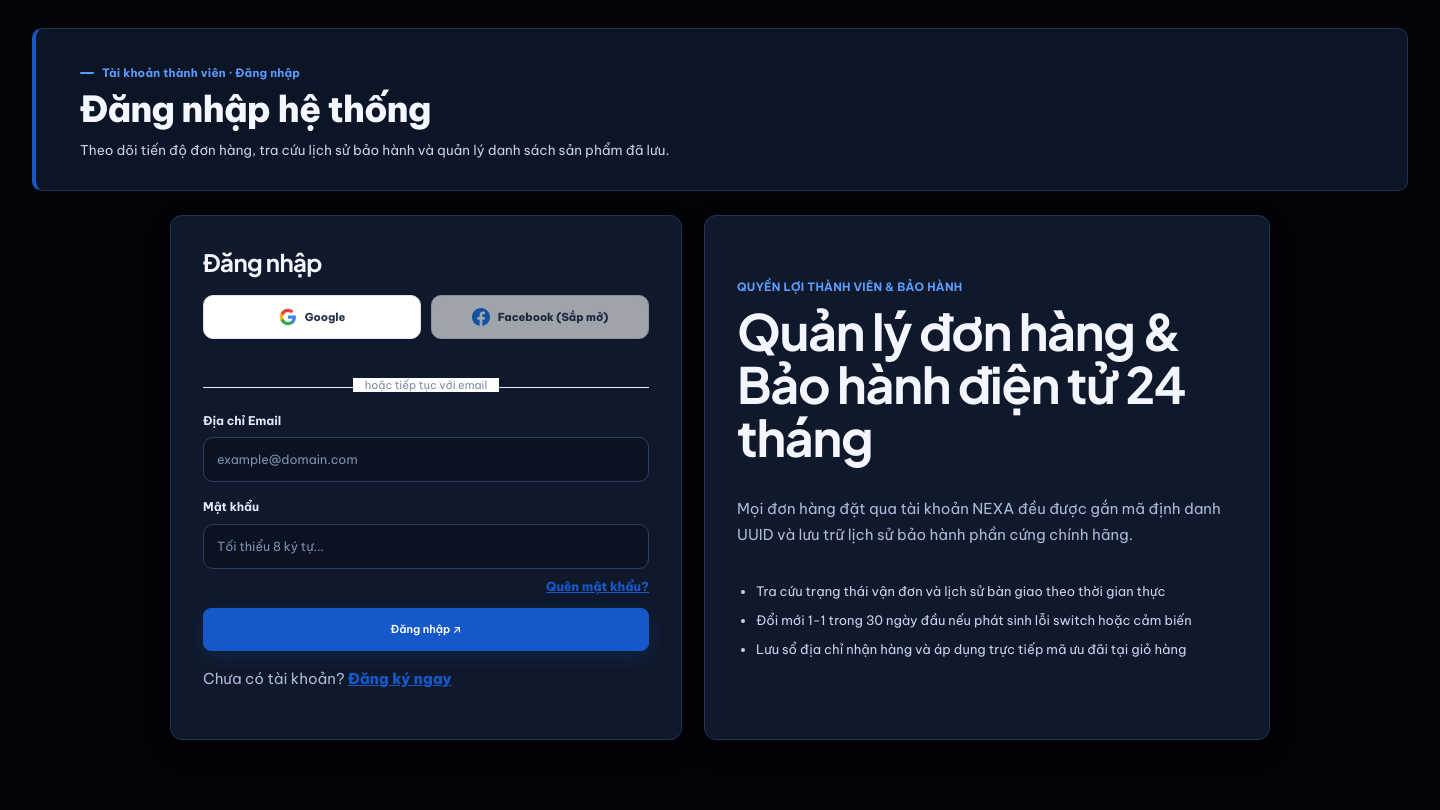
Test: login prompts for new-email OTP after email change and forgot password flow resets password
This screenshot has width=1440, height=810.
Later steps or results of the test are not shown.
Type "new.user@gmail.com" into the field labelled "Địa chỉ Email" at (426, 460), box [203,437,649,482]
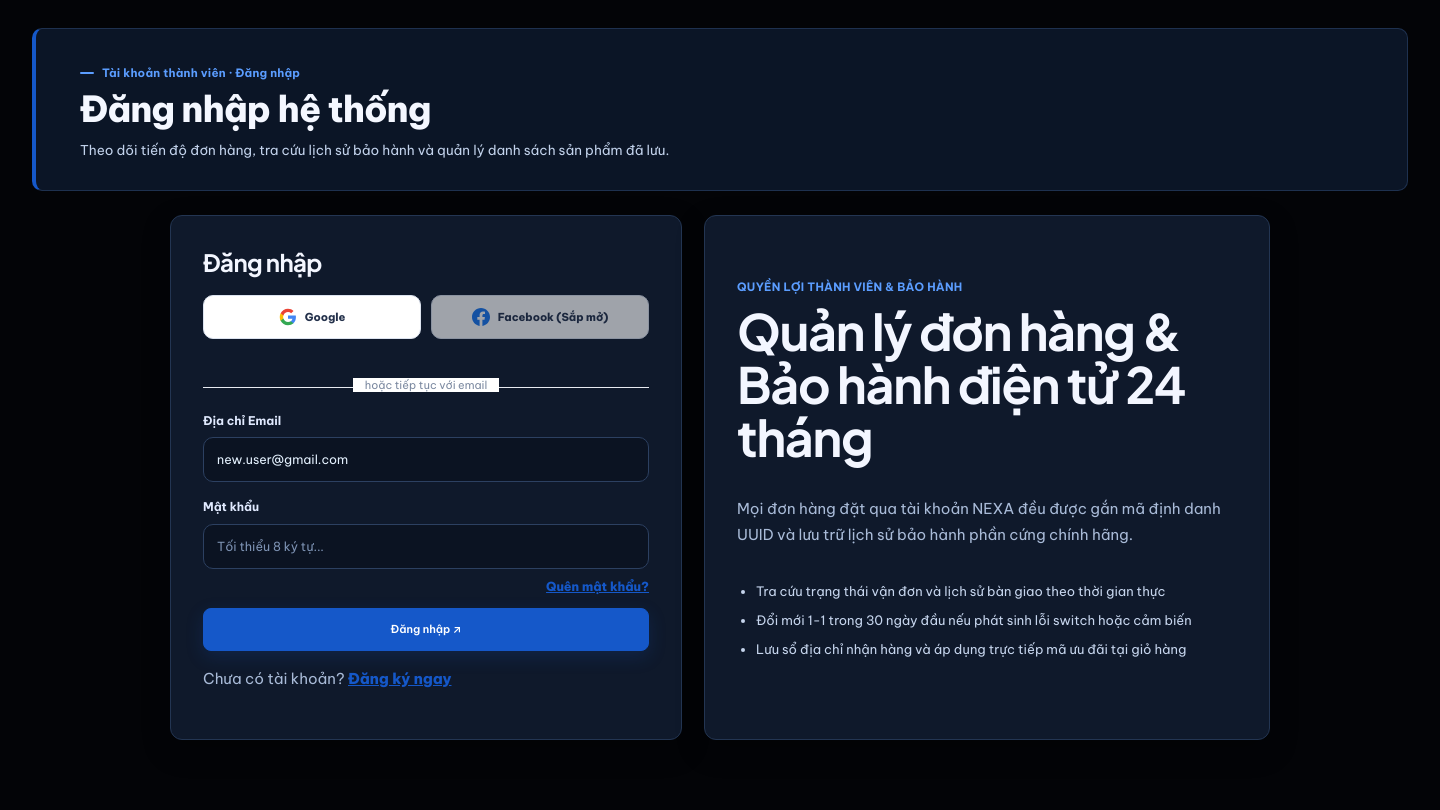
Type "Buyer!Password123" into the password field labelled "Mật khẩu" at (426, 546), box [203,524,649,569]
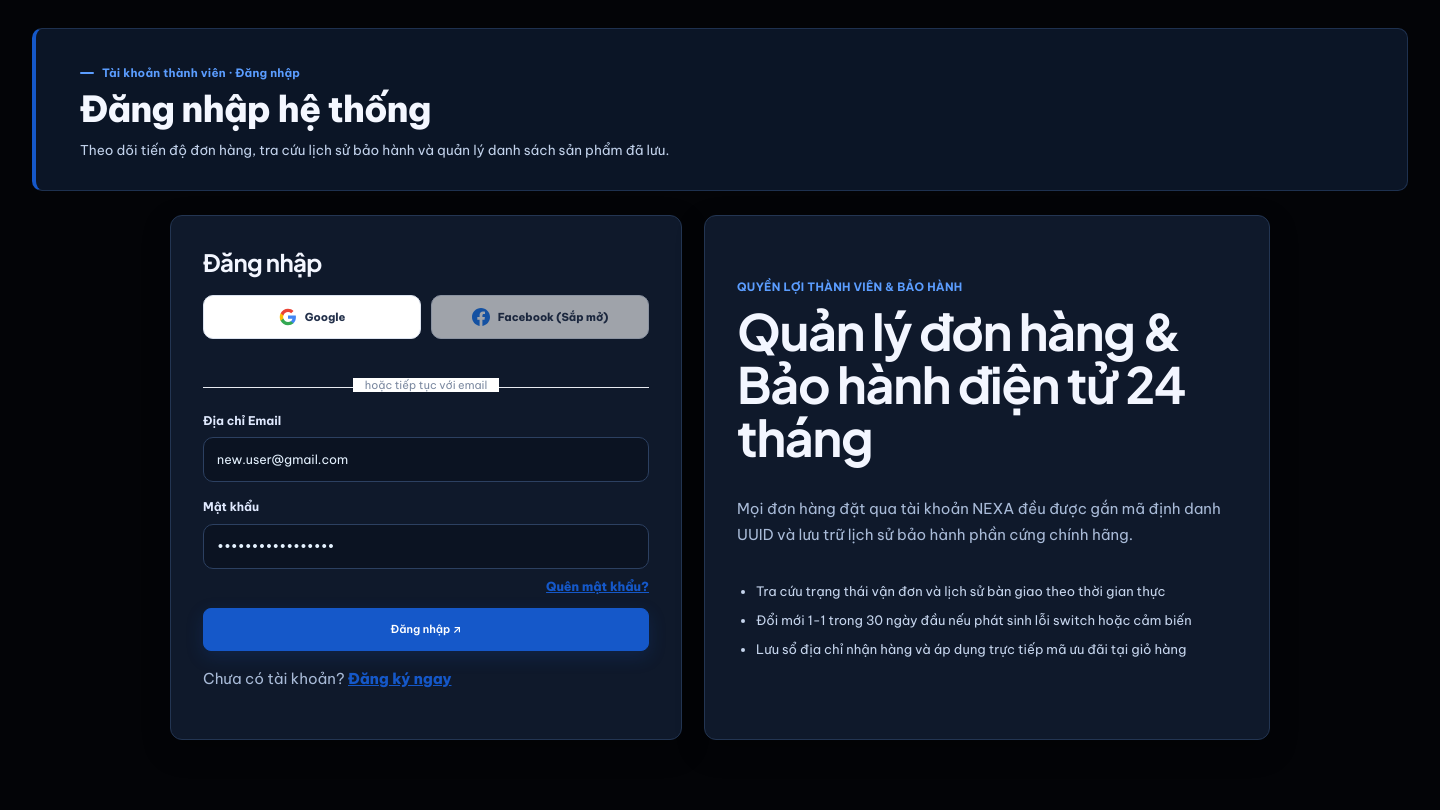
Click the button "Đăng nhập ↗" at (426, 630), box [203,608,649,651]
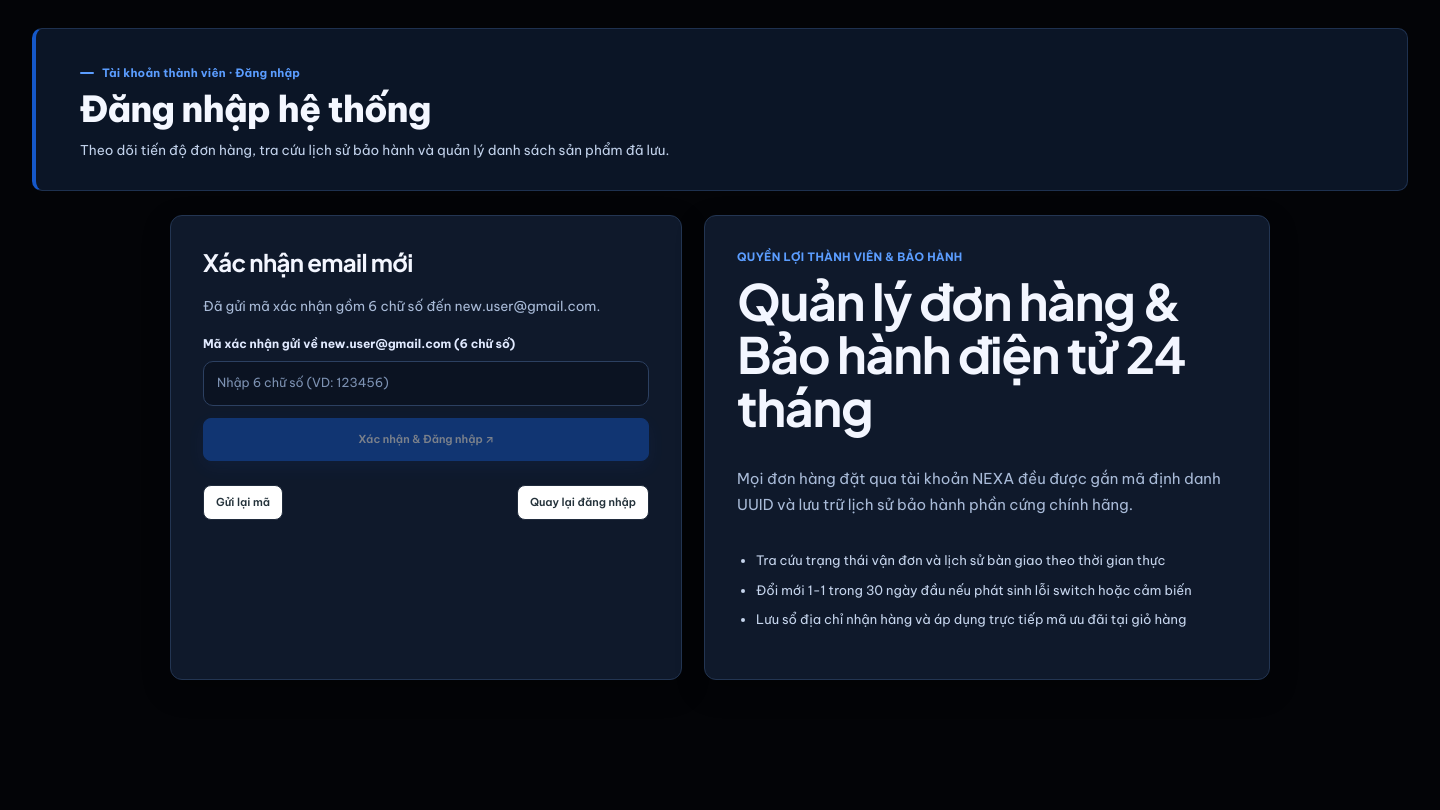
Result: the heading "Xác nhận email mới" is shown at [203,247,413,277]
